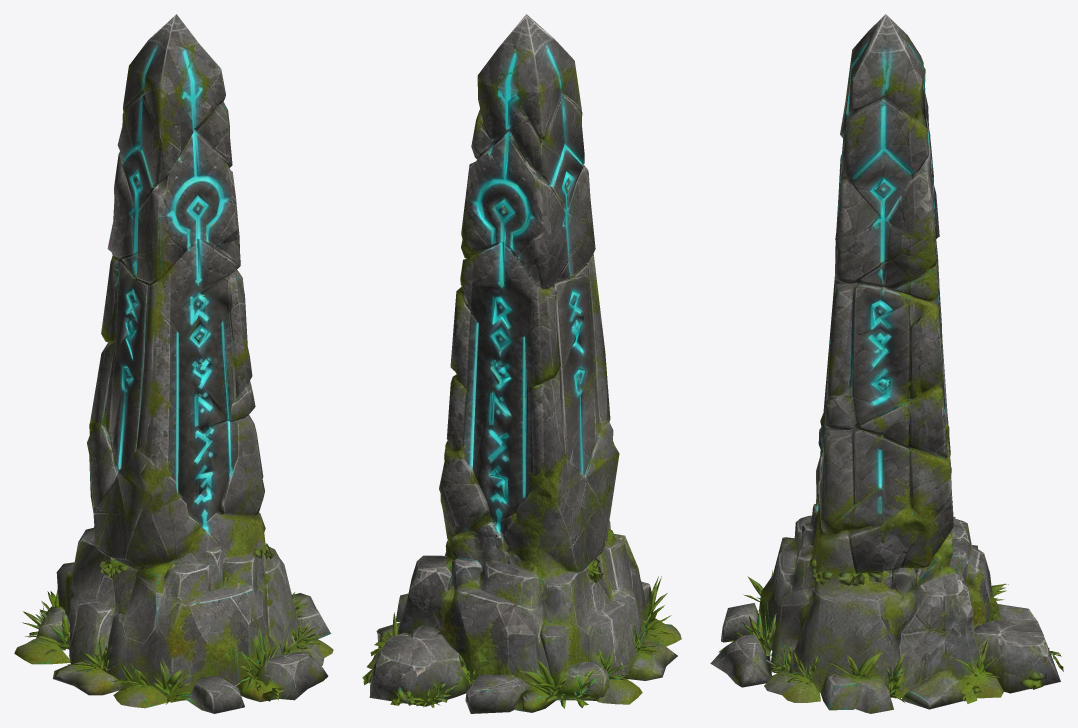
Rendered from obelisk.glb.
3 views of the same model, side by side, from view 1: azimuth 30°, elevation 25°; view 2: azimuth 150°, elevation 25°; view 3: azimuth 270°, elevation 25° (orthographic).
Size of the model in its own units: 0.4219 by 0.9531 by 0.4805.
Materials: 1 (1 with a texture image).
